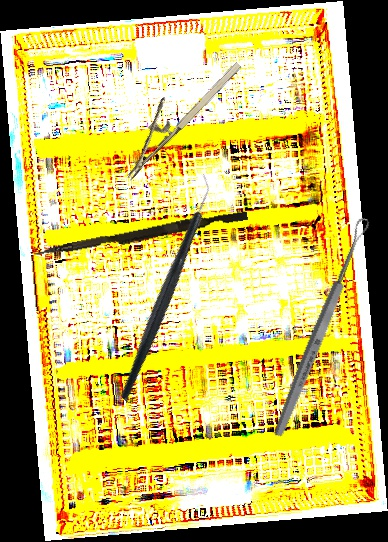Chopper: (51, 169, 276, 404)
Needle Holder: (104, 43, 245, 182)
Pusher: (33, 205, 249, 265)
Surgical Spoon: (270, 215, 373, 440)
